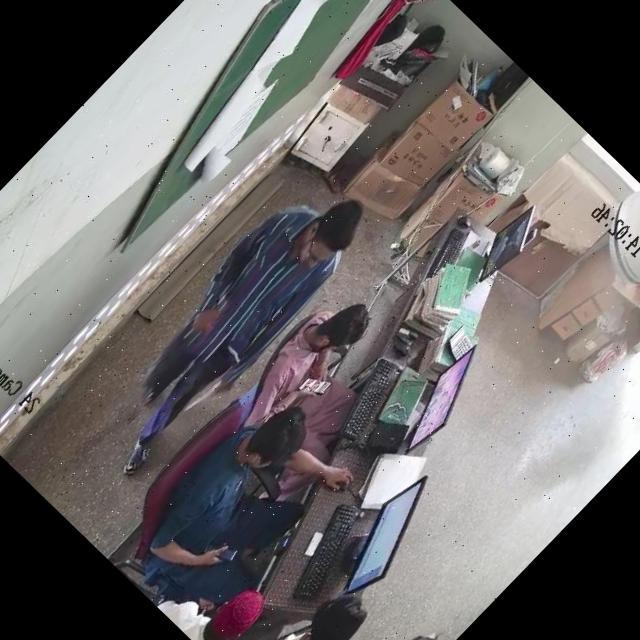person: (102, 177, 376, 456), (154, 402, 362, 611), (266, 292, 398, 424), (231, 583, 380, 640), (171, 570, 264, 640), (305, 604, 445, 640)
